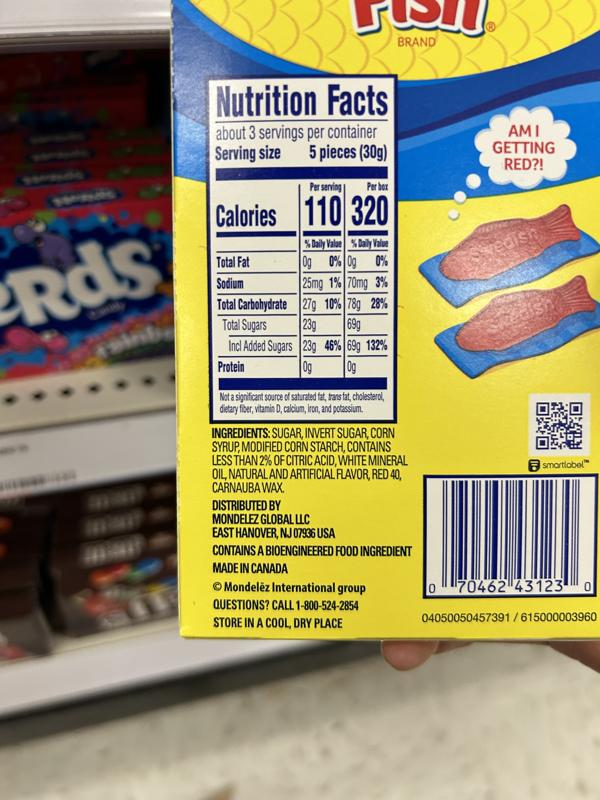ingredients: (209, 425, 408, 495)
